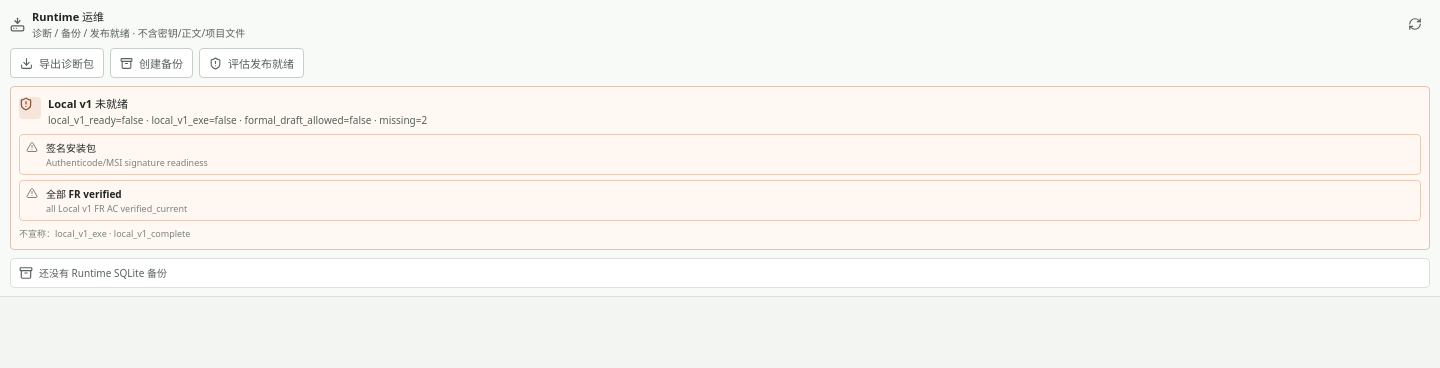
Test: RuntimeOpsPanel › exports diagnostics and creates a backup
The image size is (1440, 368).
Expected: the text "Local v1 未就绪" is shown, [48,96,128,111]
What coordinates should you click on to do the following:
click the button "导出诊断包"
I would click on:
 (57, 63)
Its box is [10,48,104,78].
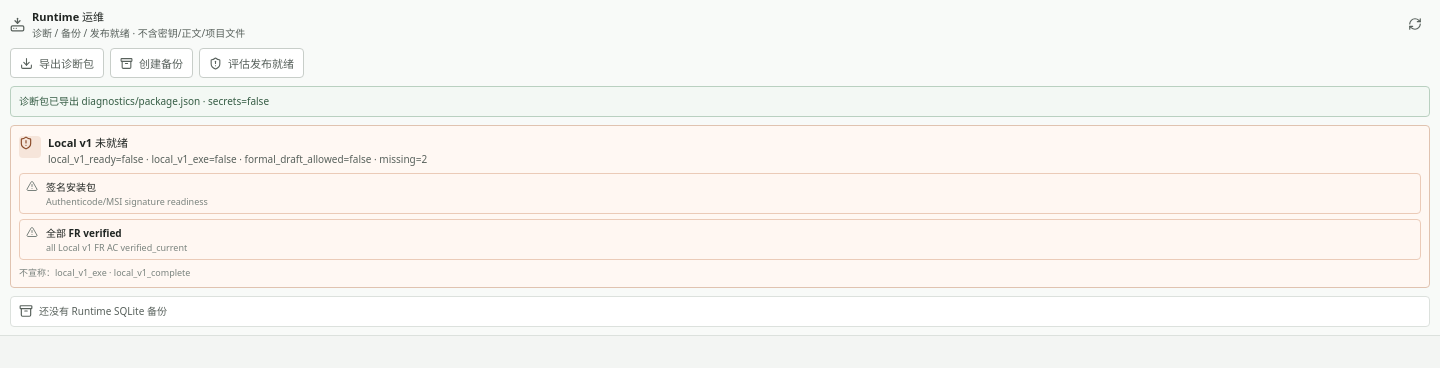
Now the text "诊断包已导出 diagnostics/package.json · secrets=false" is shown, box [19,94,269,108]
What coordinates should you click on to do the following:
click the button "创建备份"
I would click on:
 (152, 63)
Its box is [110,48,193,78].
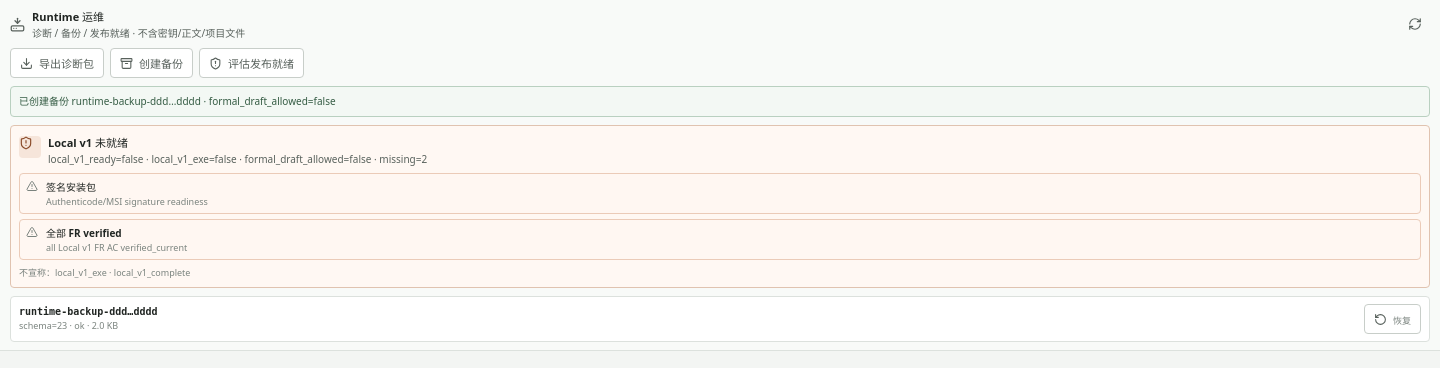
Now the text "已创建备份" is shown, box [19,94,336,108]
